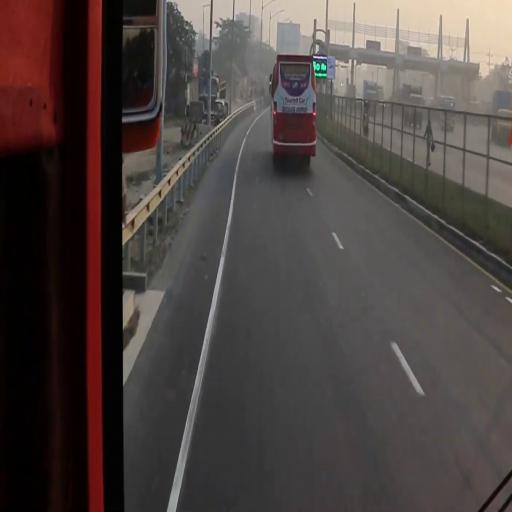bus: (269, 54, 319, 165), (440, 94, 456, 136)
truck: (491, 89, 512, 142), (206, 75, 230, 118), (400, 82, 424, 124), (364, 79, 379, 115)
